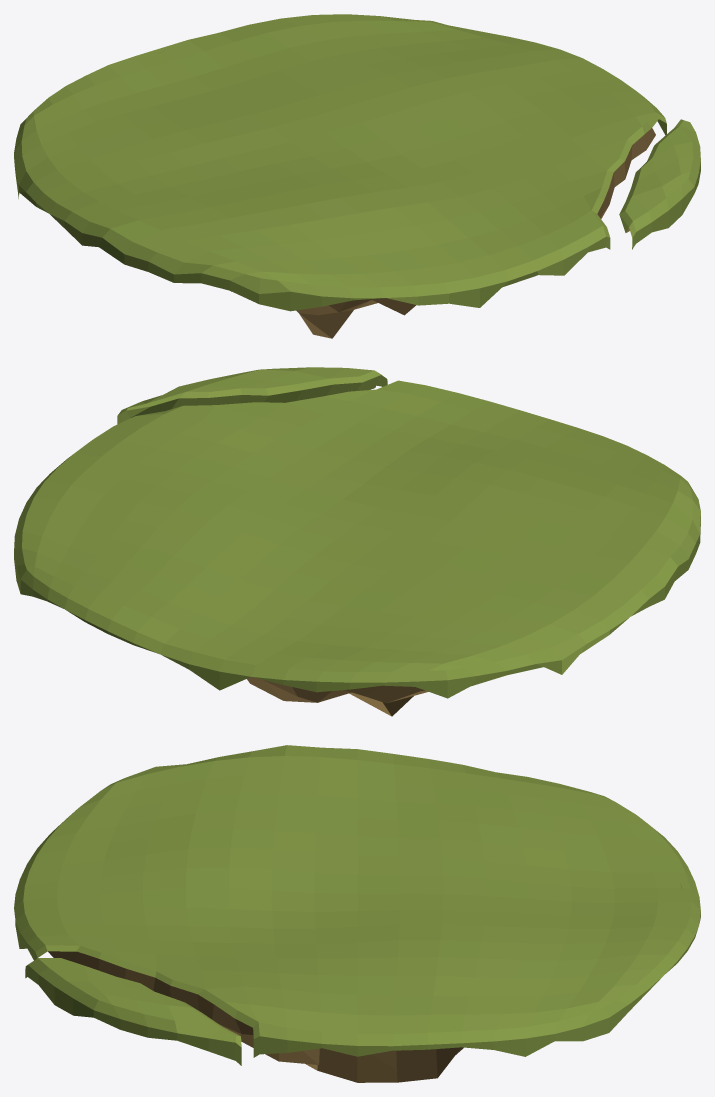
File: platforme_moyen2_v2.fbx
The picture shows the model from 3 angles, top to bottom: view 1: azimuth 30°, elevation 25°; view 2: azimuth 150°, elevation 25°; view 3: azimuth 270°, elevation 25°; orthographic projection. The views are drawn at different scales.
Parts seen in each view (by area): view 1: Plane.001; view 2: Plane.001; view 3: Plane.001.
Part boxes in pixels (box(x1,y1,x2,y2)): Plane.001: box(14, 14, 700, 338); Plane.001: box(14, 367, 700, 716); Plane.001: box(14, 745, 700, 1082).
Size of the model in its own units: 669 by 216 by 663.
